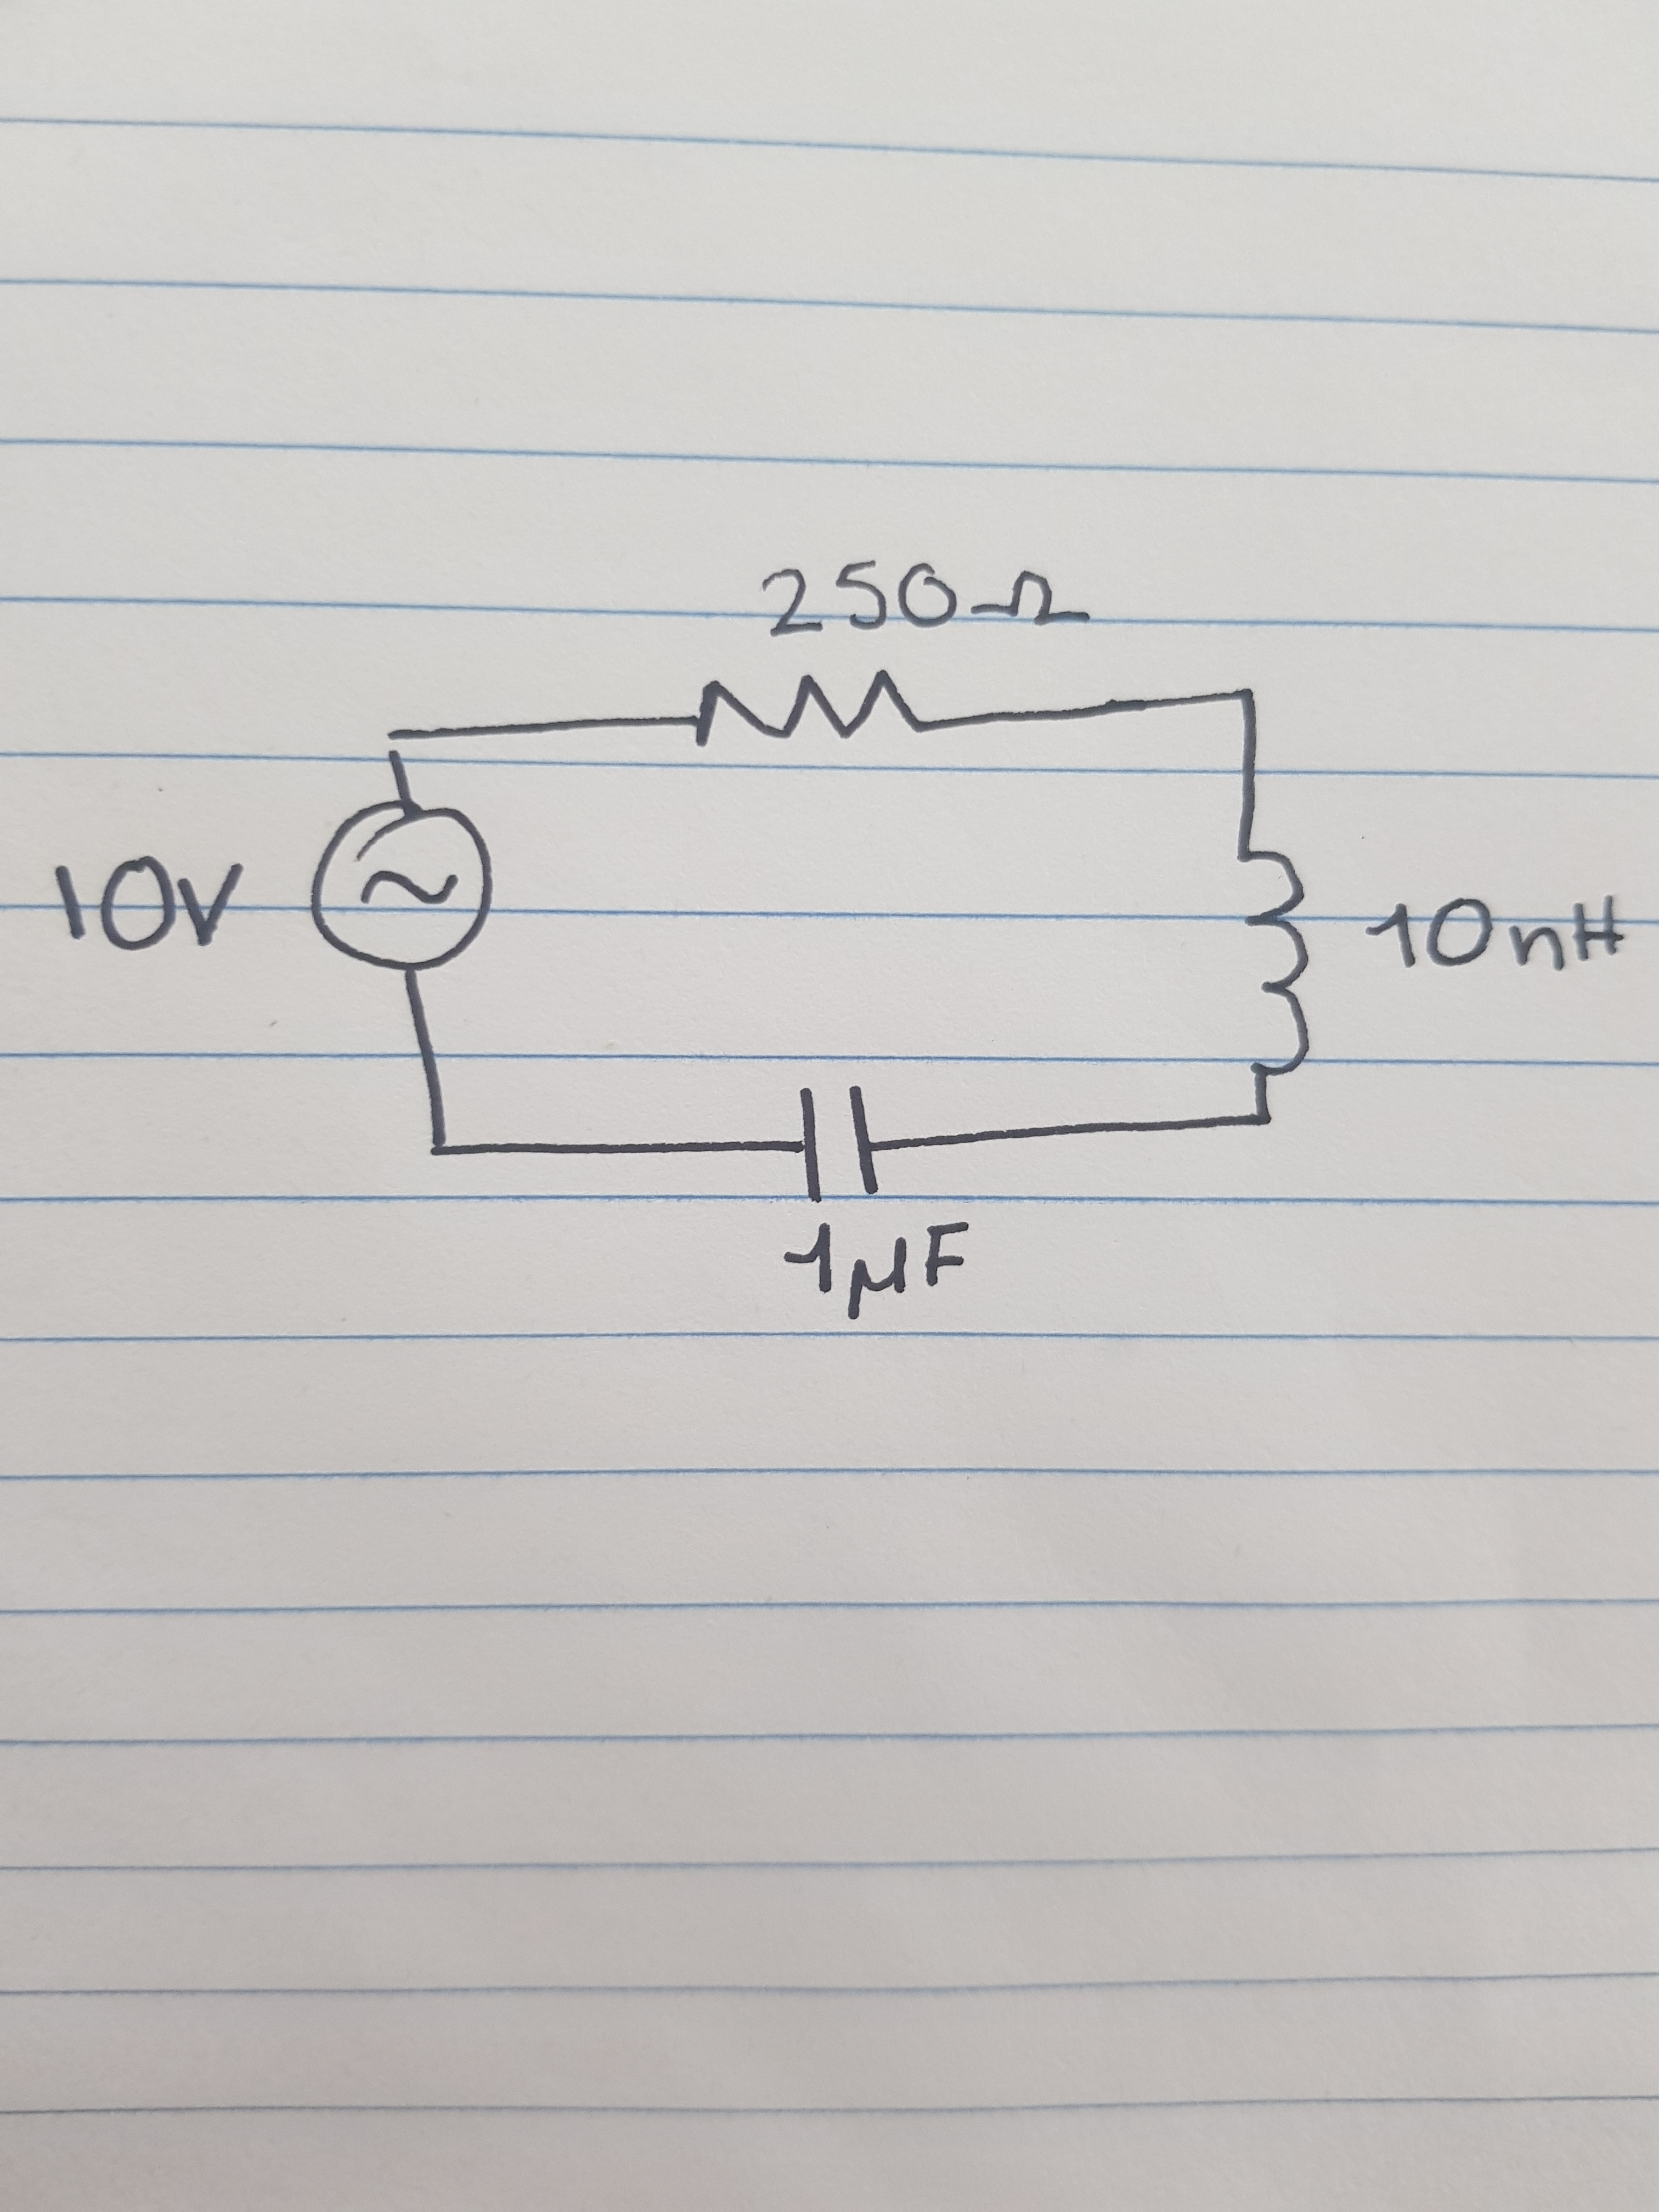capacitor.unpolarized: (777, 1069, 904, 1217)
inductor: (1223, 838, 1323, 1080)
junction: (376, 723, 420, 765), (415, 1132, 460, 1170), (1229, 679, 1265, 716), (1249, 1109, 1279, 1141)
resistor: (681, 658, 960, 765)
text: (753, 549, 1093, 639), (1361, 888, 1631, 982), (42, 843, 251, 958), (779, 1224, 985, 1325)
voltage.dc: (298, 792, 511, 981)
